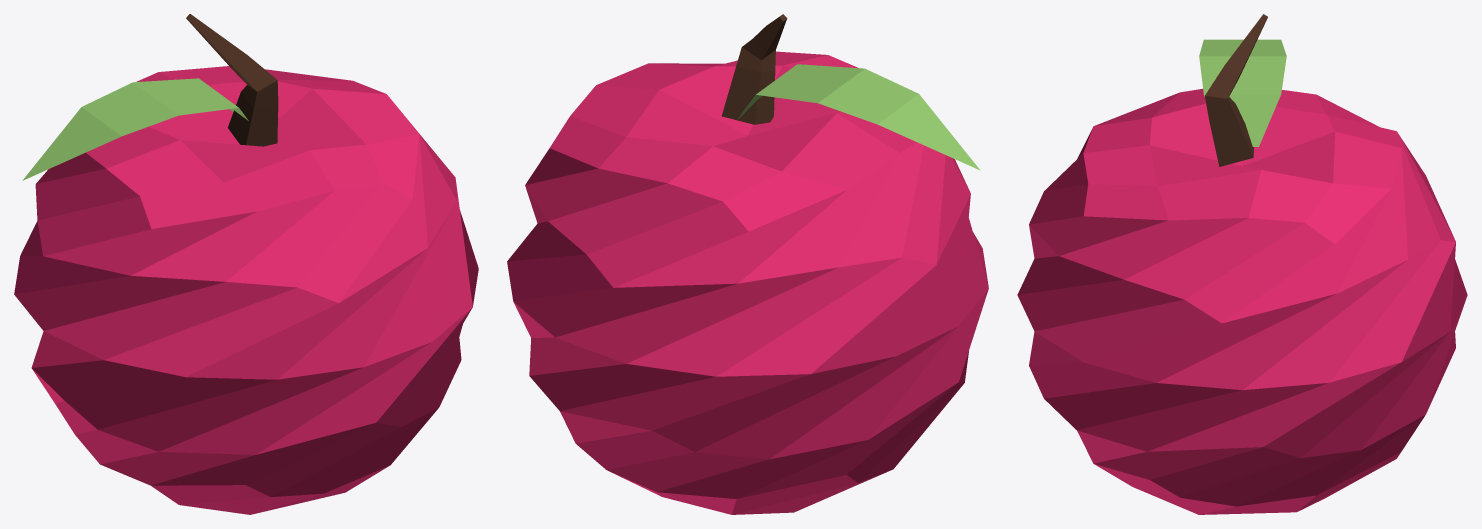
The model's file is Apple.fbx.
3 views of the same model, side by side, from view 1: azimuth 30°, elevation 25°; view 2: azimuth 150°, elevation 25°; view 3: azimuth 270°, elevation 25° (orthographic). The views are drawn at different scales.
Visible parts, largest first — view 1: SM_Apple; view 2: SM_Apple; view 3: SM_Apple.
Part boxes in pixels (x1=…): SM_Apple: x1=14, y1=14, x2=478, y2=514; SM_Apple: x1=507, y1=14, x2=988, y2=514; SM_Apple: x1=1017, y1=14, x2=1467, y2=514.
Size of the model in its own units: 248 by 259 by 236.
